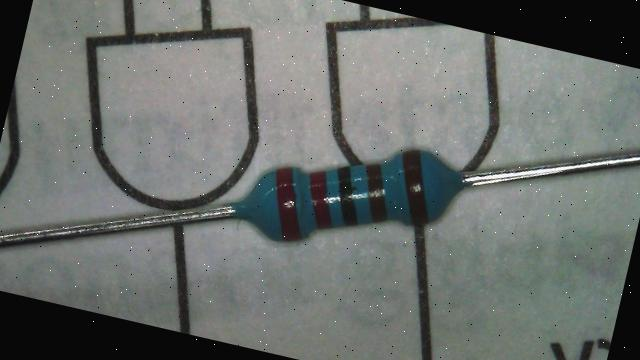black: (325, 163, 369, 228)
brown: (387, 148, 443, 230), (354, 162, 398, 224)
red: (262, 164, 316, 244), (302, 171, 337, 227)
resistor: (226, 132, 481, 274)
